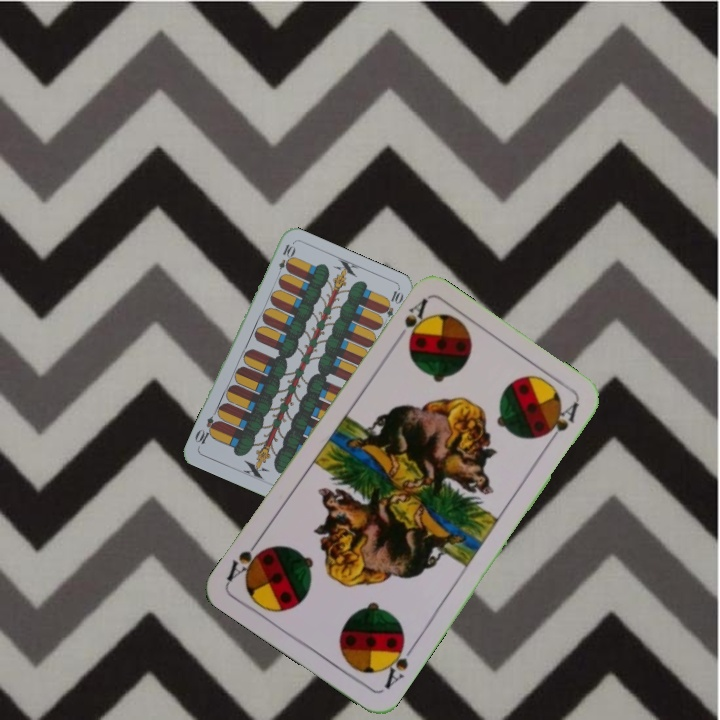E10: (273, 240, 296, 280)
SA: (377, 634, 418, 692), (389, 295, 430, 346)
